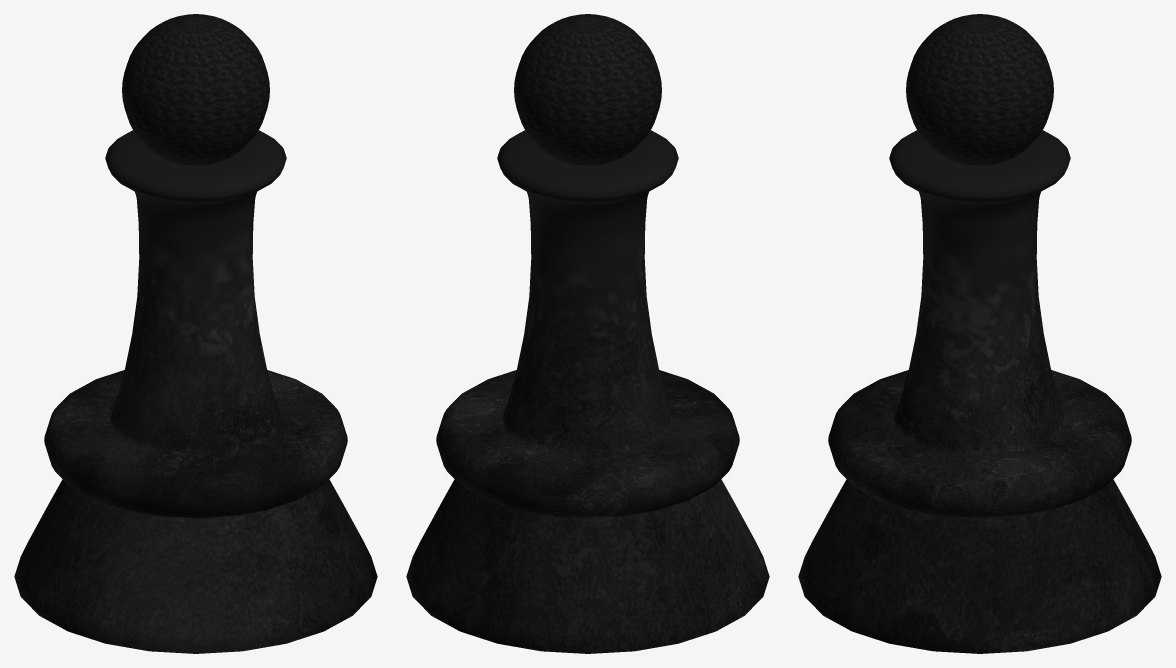
Rendered from pawn_black.obj.
3 views of the same model, side by side, from view 1: azimuth 30°, elevation 25°; view 2: azimuth 150°, elevation 25°; view 3: azimuth 270°, elevation 25° (orthographic).
Visible parts, largest first — view 1: pie_Cylinder.002; view 2: pie_Cylinder.002; view 3: pie_Cylinder.002.
Boxes of the visible parts, box(x1,y1,x2,y2) form: pie_Cylinder.002: box(14, 14, 377, 653); pie_Cylinder.002: box(406, 14, 769, 653); pie_Cylinder.002: box(798, 14, 1161, 653).
Bounding box in the file's own units: 0.5931 × 1 × 0.5931.
Materials: 1 (1 with a texture image).
